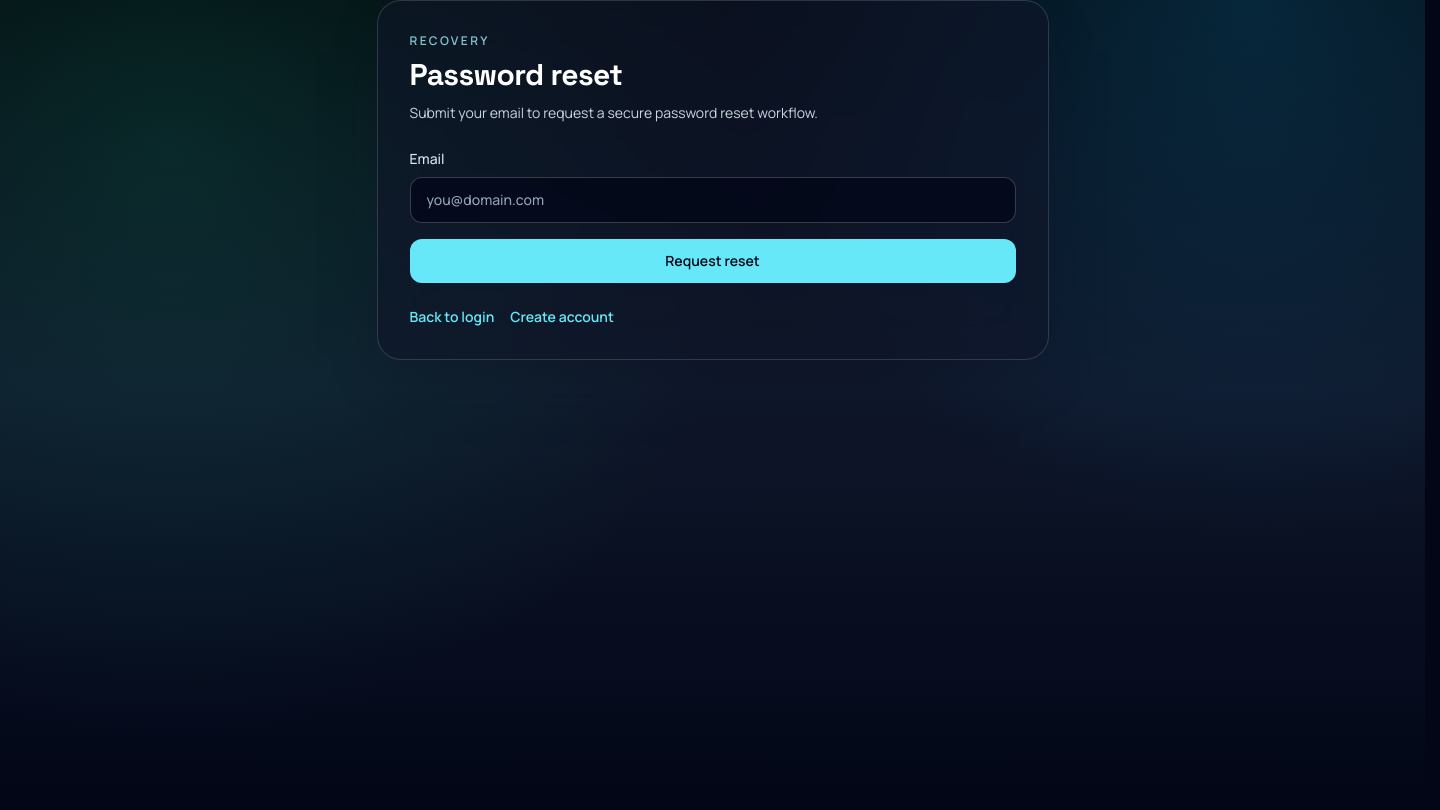
Scenario: password reset throttle › shows throttled message
In the field named "Reset email": (712, 200) [410,177,1016,223], type "alice@example.com"
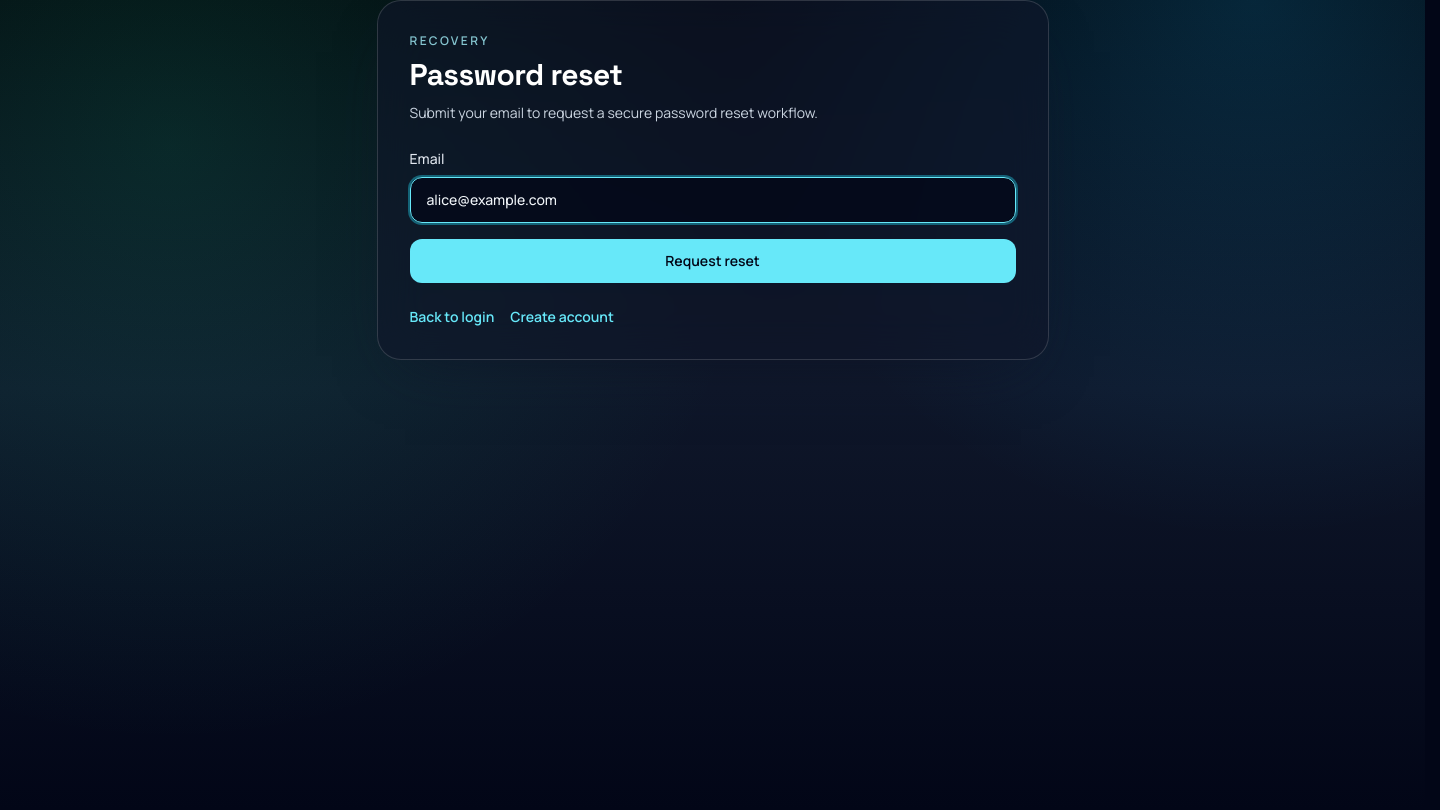
Click the button "Request reset": (712, 261) [410,239,1016,283]
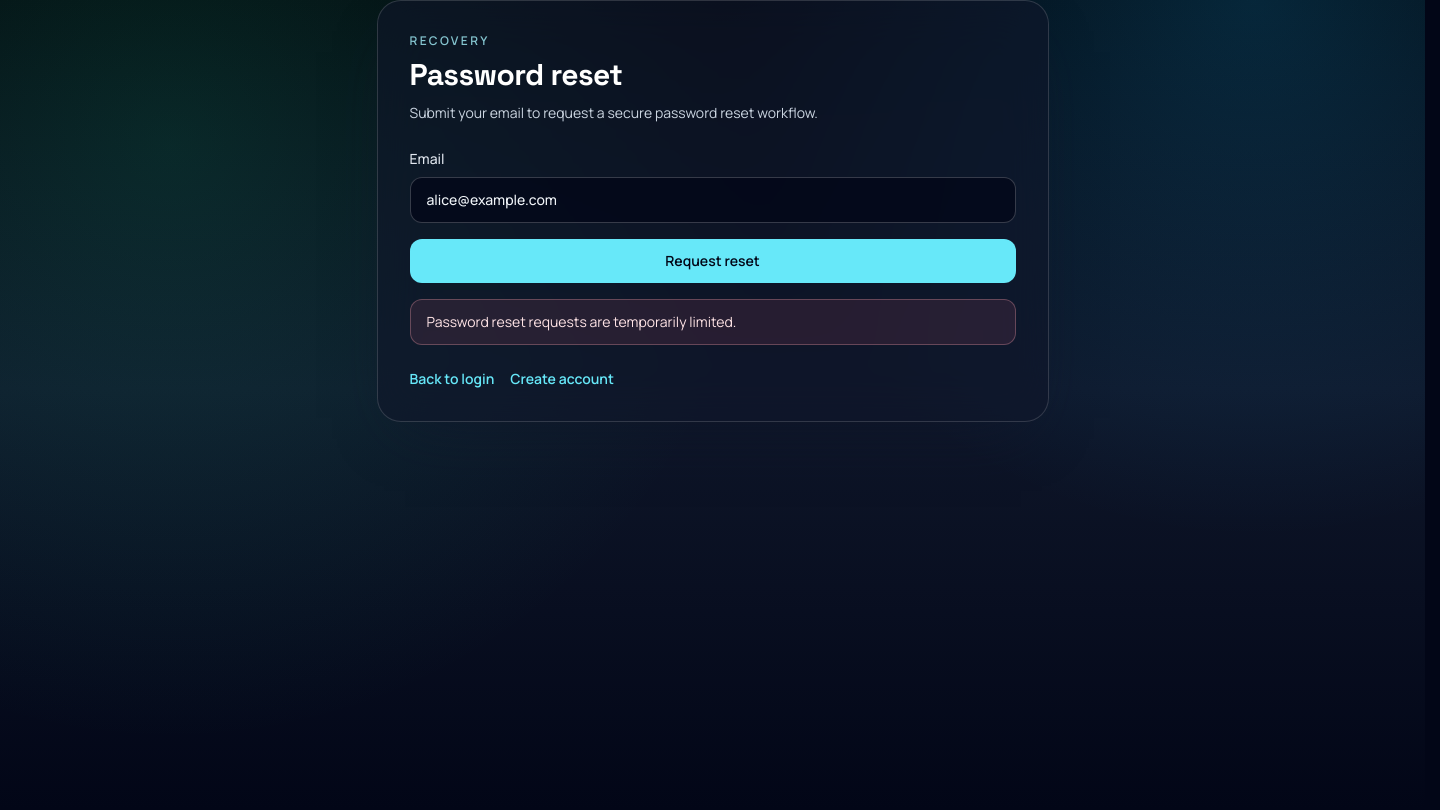
Now the message reads "Password reset requests are temporarily limited.", box [426,312,736,331]
